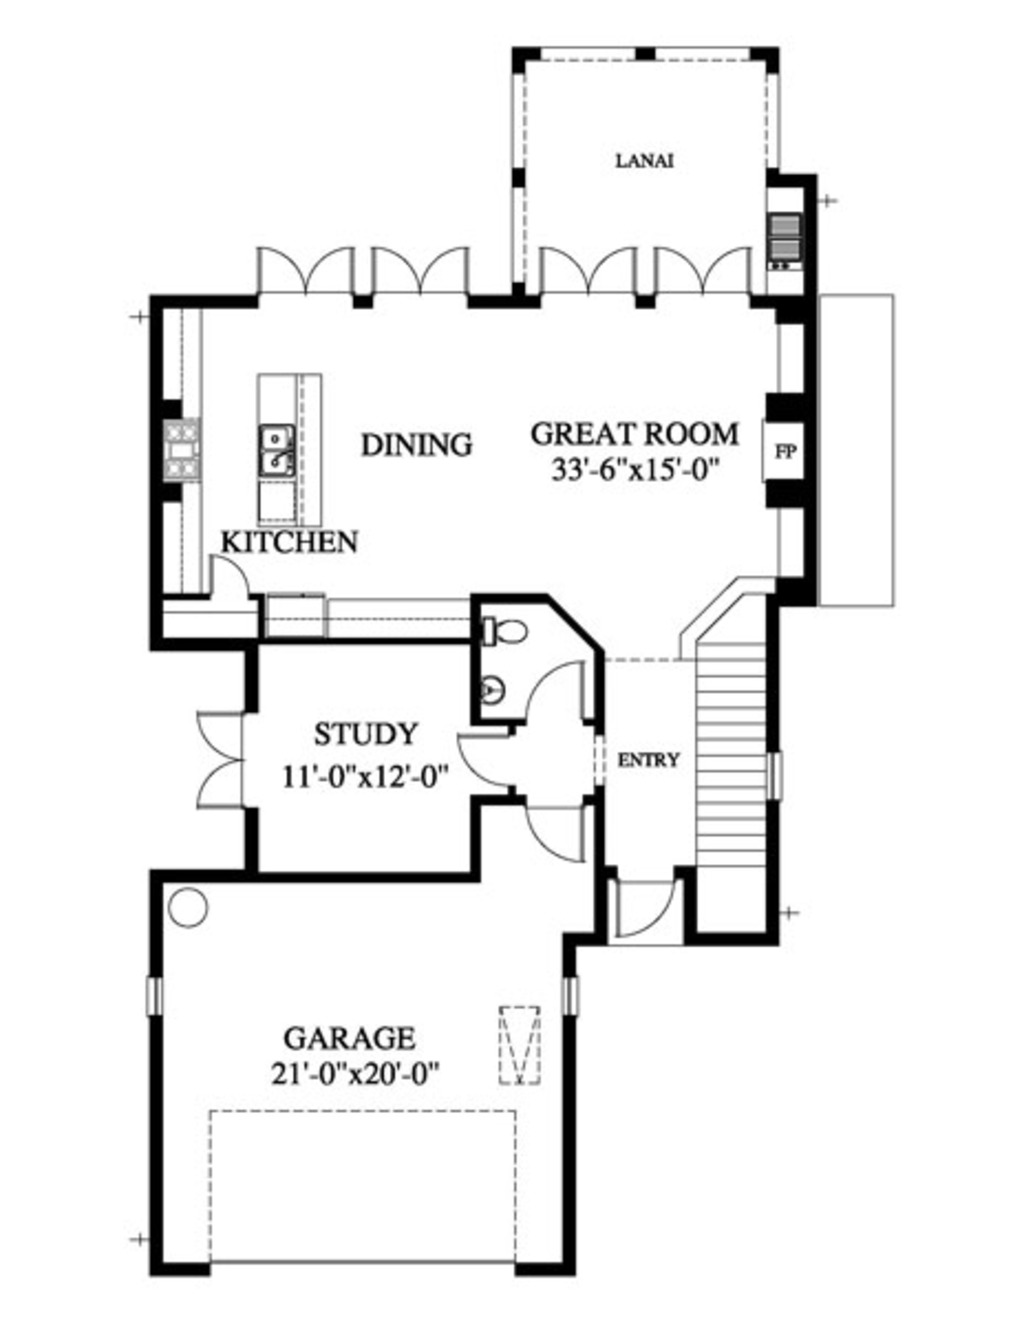door: (249, 240, 362, 304), (538, 242, 644, 304), (651, 240, 751, 305), (190, 702, 248, 815), (367, 245, 482, 294), (607, 869, 675, 945), (451, 731, 521, 797), (520, 801, 585, 867), (525, 662, 601, 718)
kitchen_bar: (253, 370, 331, 539)
stairs: (683, 593, 769, 935)
windows: (556, 958, 586, 1026), (141, 972, 168, 1028)
